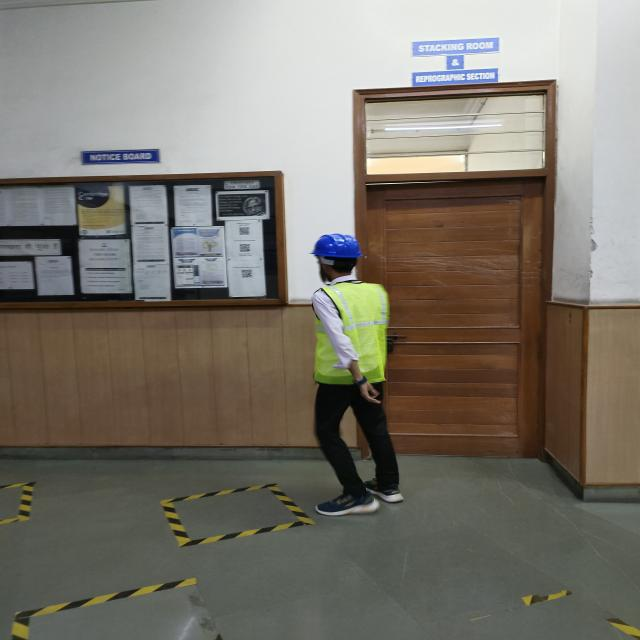safe: (313, 233, 392, 517)
